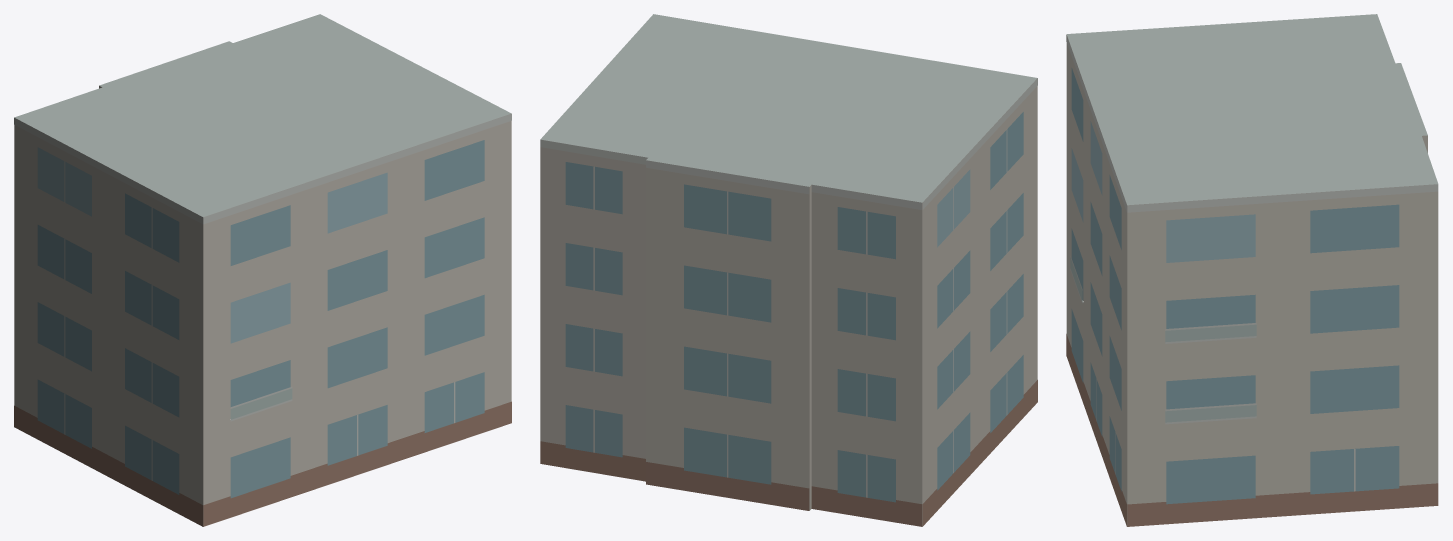
Rendered from survey-upis-32913454.glb.
3 renders of one model, left to right at view 1: azimuth 30°, elevation 25°; view 2: azimuth 150°, elevation 25°; view 3: azimuth 270°, elevation 25°, orthographic. The views are drawn at different scales.
Parts seen in each view (by area): view 1: survey-upis-32913454.tmp; view 2: survey-upis-32913454.tmp; view 3: survey-upis-32913454.tmp.
Boxes of the visible parts, left/top/right/bottom form: survey-upis-32913454.tmp: left=14, top=14, right=511, bottom=526; survey-upis-32913454.tmp: left=540, top=14, right=1037, bottom=526; survey-upis-32913454.tmp: left=1066, top=14, right=1438, bottom=526.
Size of the model in its own units: 13.4 by 10.5 by 11.02.
